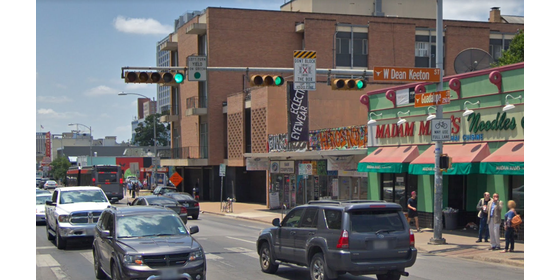bike symbol may use full lane sign: (428, 118, 453, 146)
dont block the box sign: (293, 47, 319, 91)
left turn yield on green sign: (188, 54, 208, 82)
